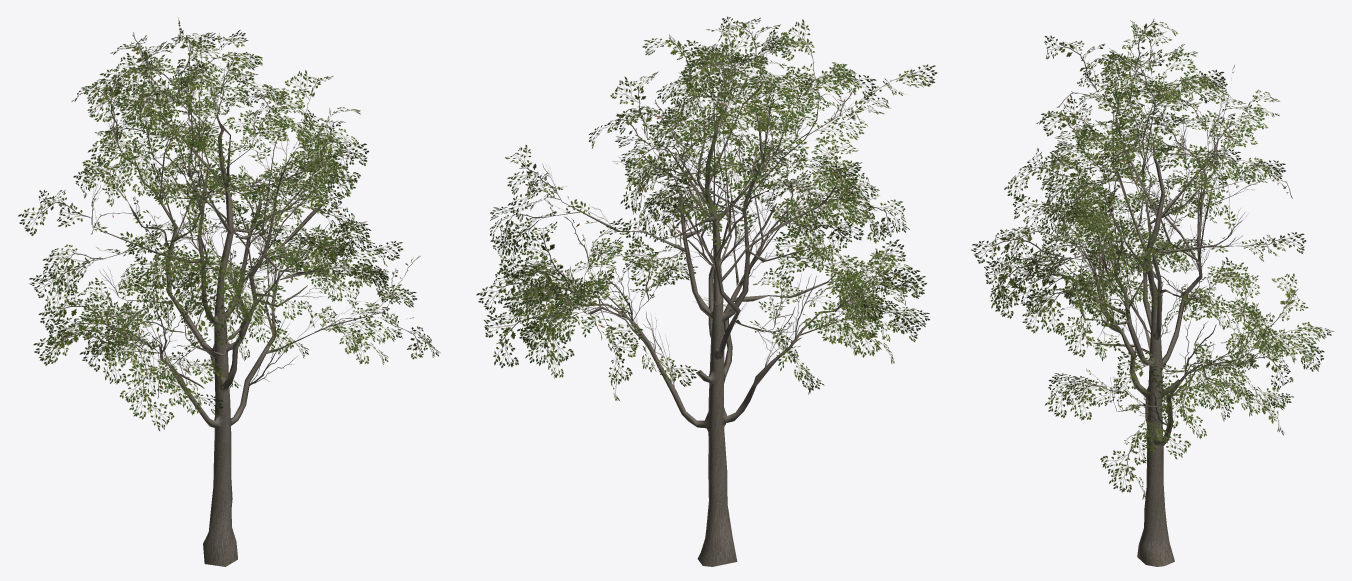
The model's file is tree_mini.glb.
3 views of the same model, side by side, from view 1: azimuth 30°, elevation 25°; view 2: azimuth 150°, elevation 25°; view 3: azimuth 270°, elevation 25° (orthographic). The views are drawn at different scales.
Visible parts, largest first — view 1: tree_mini; view 2: tree_mini; view 3: tree_mini.
Boxes of the visible parts, <box> form: tree_mini: <box>18,18,440,566</box>; tree_mini: <box>476,16,937,566</box>; tree_mini: <box>971,19,1333,566</box>.
Size of the model in its own units: 4.96 by 6.5 by 4.27.
Materials: 7 (7 with a texture image).
